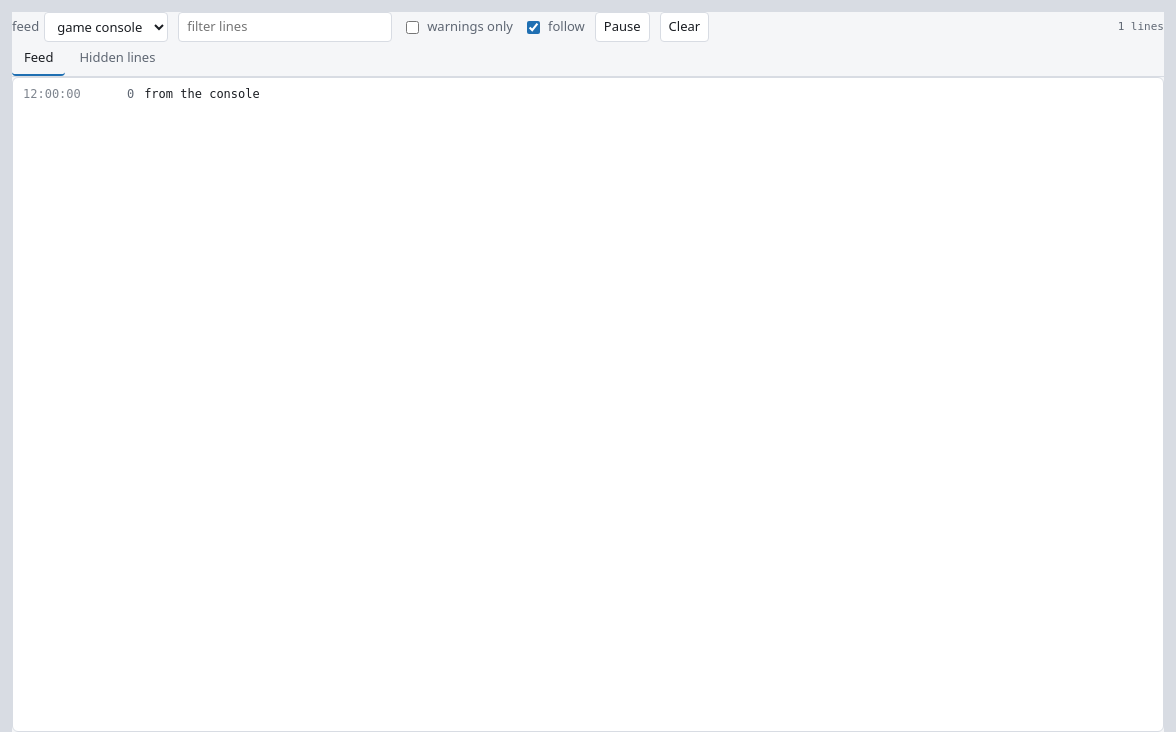
Test: keeps each feed to itself
Select "C# only" in the dropdown at (106, 27), box [44, 12, 168, 42]
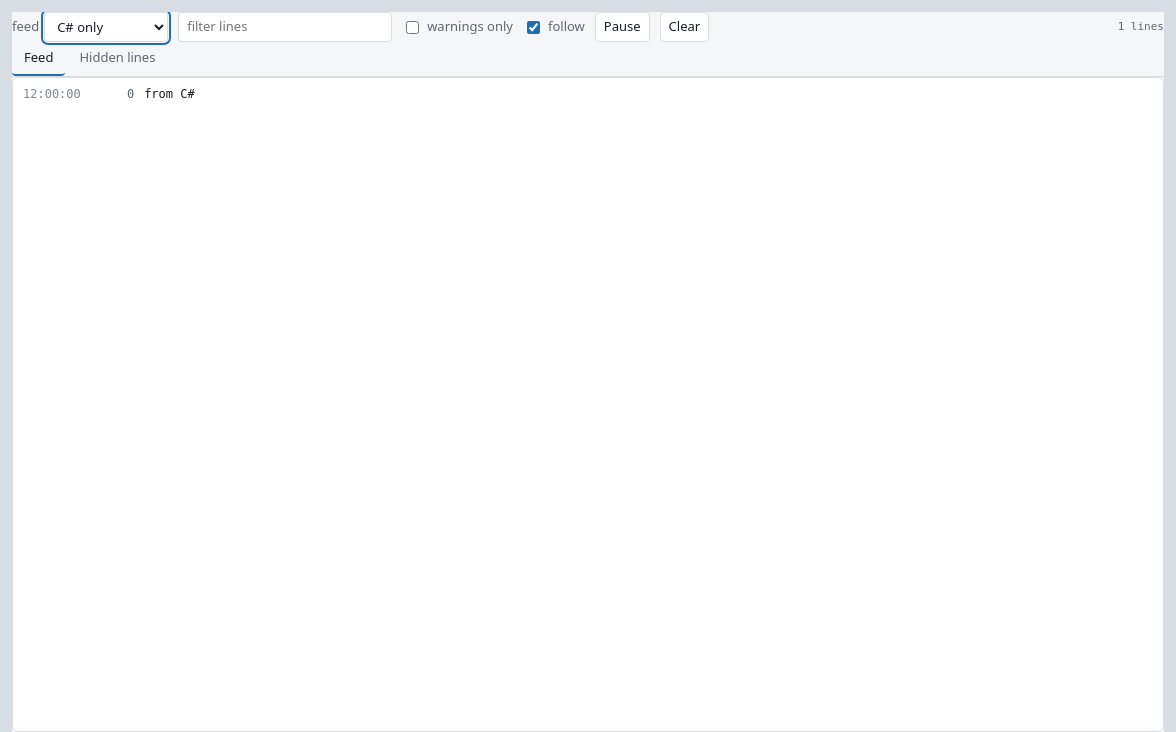
Expected: the text "from C#" is shown, [144, 86, 195, 100]
Expected: the text "from the console" is gone
